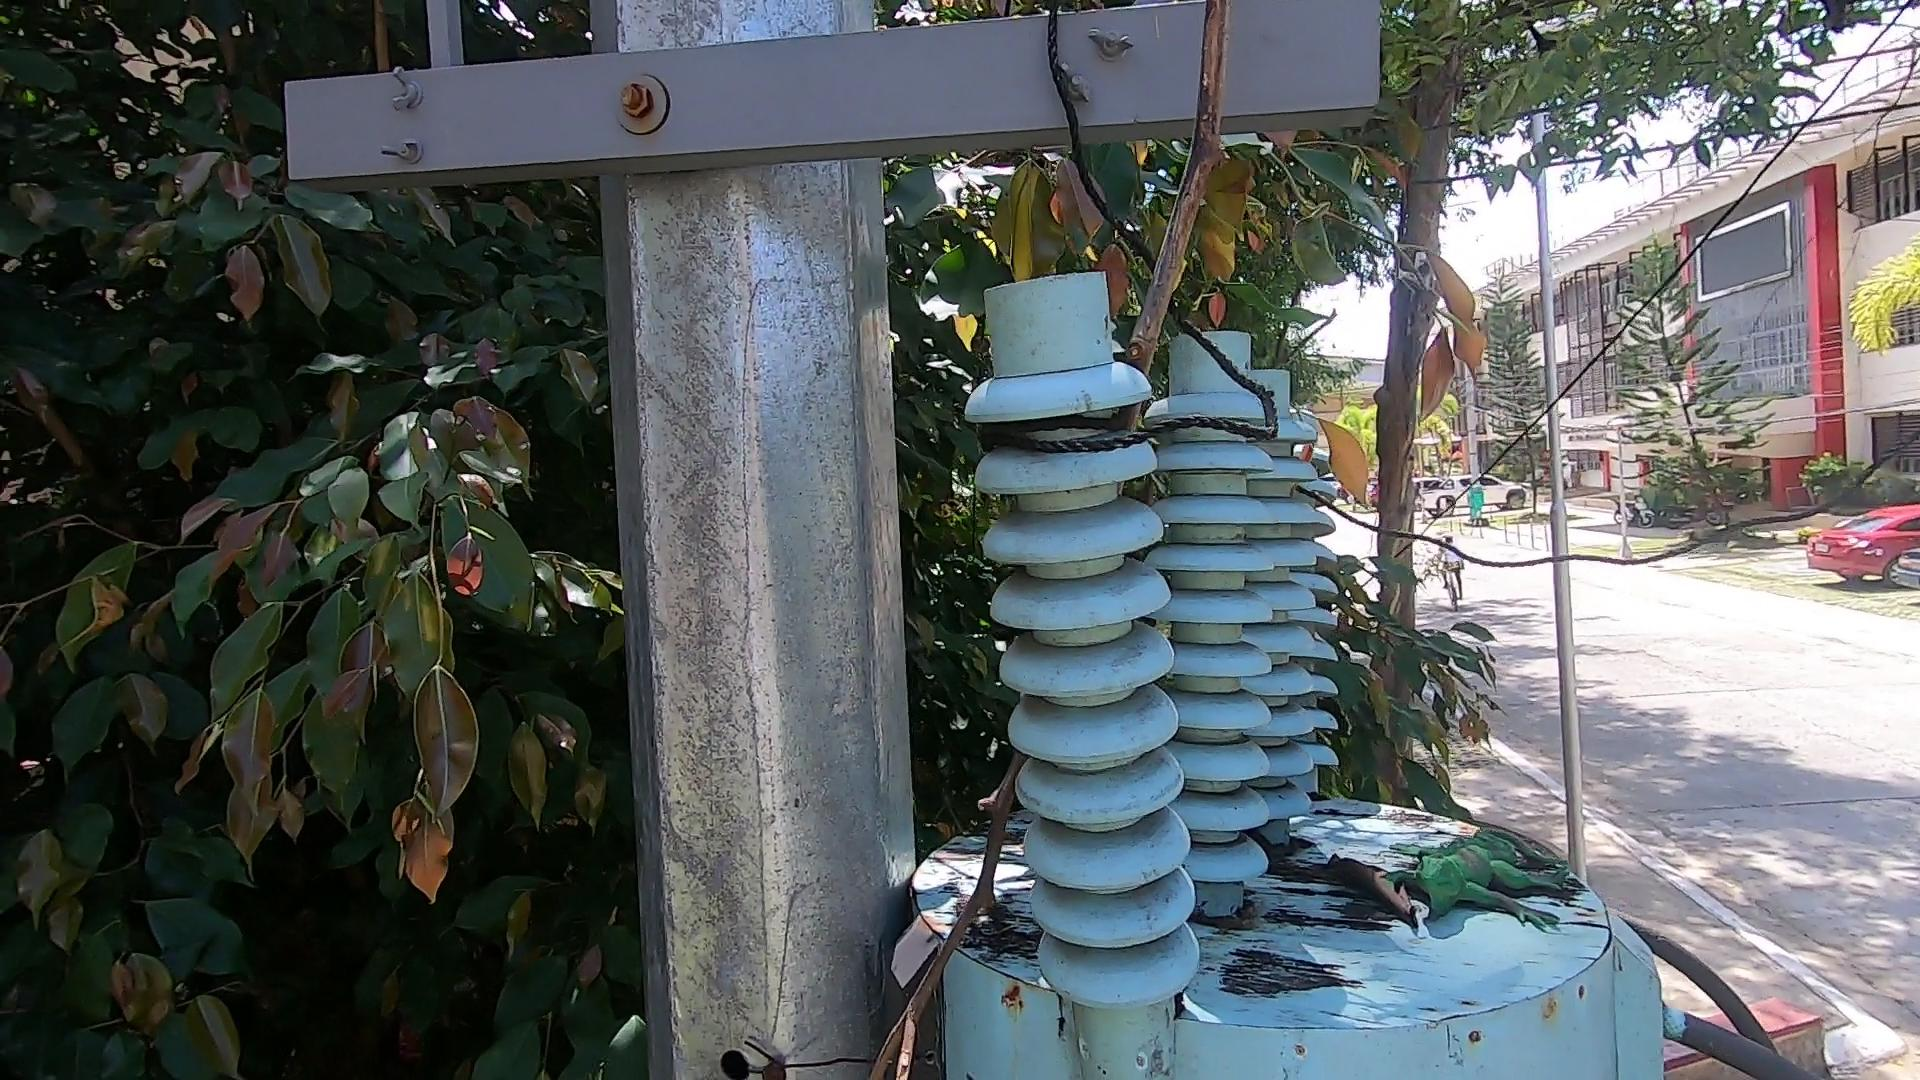branch with leaves: (1174, 253, 1400, 491)
leaf: (1302, 822, 1415, 938), (957, 884, 1029, 967)
tree branch: (824, 16, 1240, 1069)
